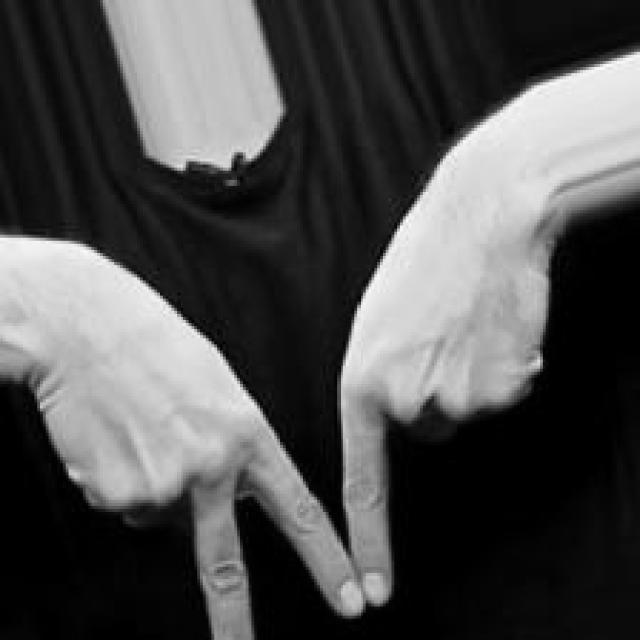N: (38, 240, 544, 640)
